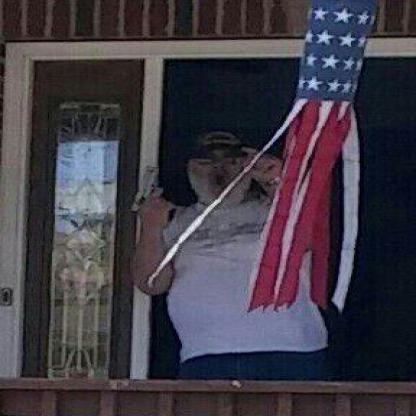gun: (120, 162, 178, 225)
